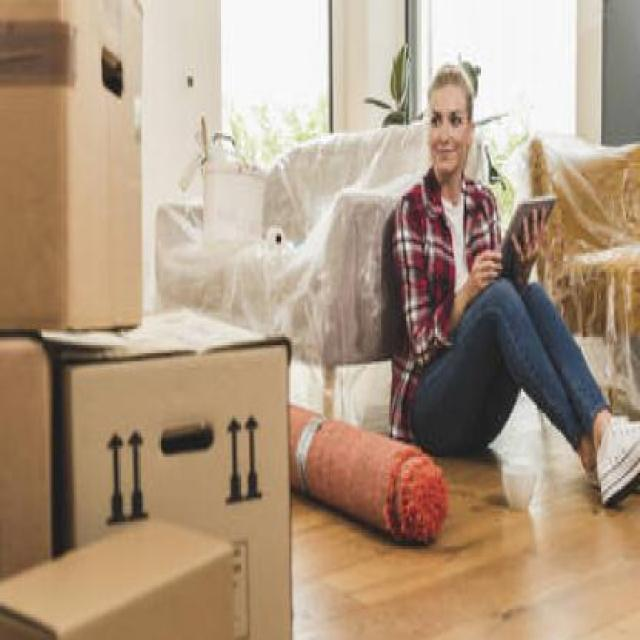box: (54, 295, 298, 640), (0, 0, 154, 340), (0, 491, 246, 640), (0, 313, 60, 591)
